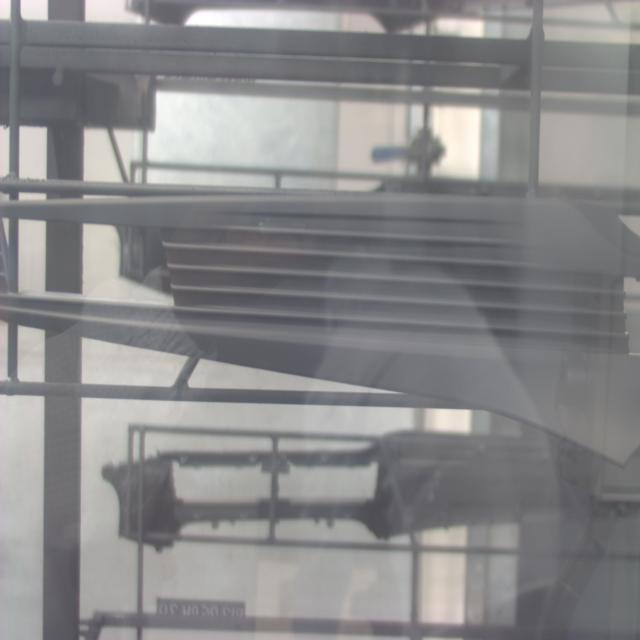Primered: (4, 181, 640, 475)
